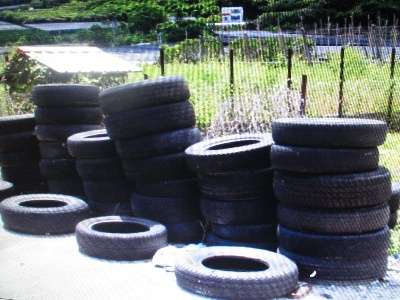tire: (173, 243, 302, 298), (273, 169, 393, 209), (74, 213, 170, 259), (276, 221, 392, 258), (1, 190, 90, 237), (276, 199, 392, 233), (99, 73, 192, 114), (185, 135, 279, 175), (269, 140, 381, 173), (270, 117, 389, 148), (104, 100, 198, 139), (113, 126, 203, 159), (195, 170, 278, 201), (197, 195, 277, 226), (32, 80, 102, 108), (32, 104, 103, 126), (35, 122, 104, 139)
